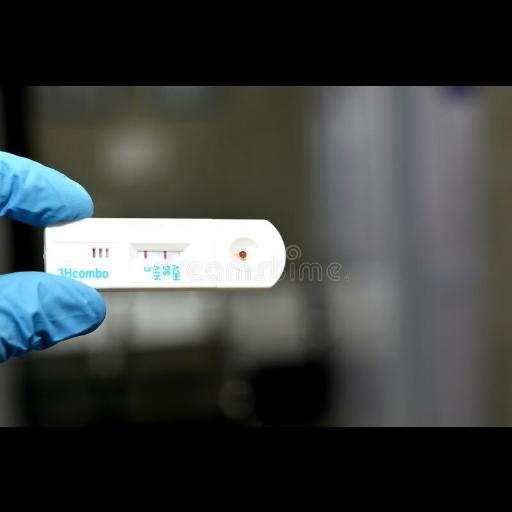Pos: (48, 216, 286, 286)
